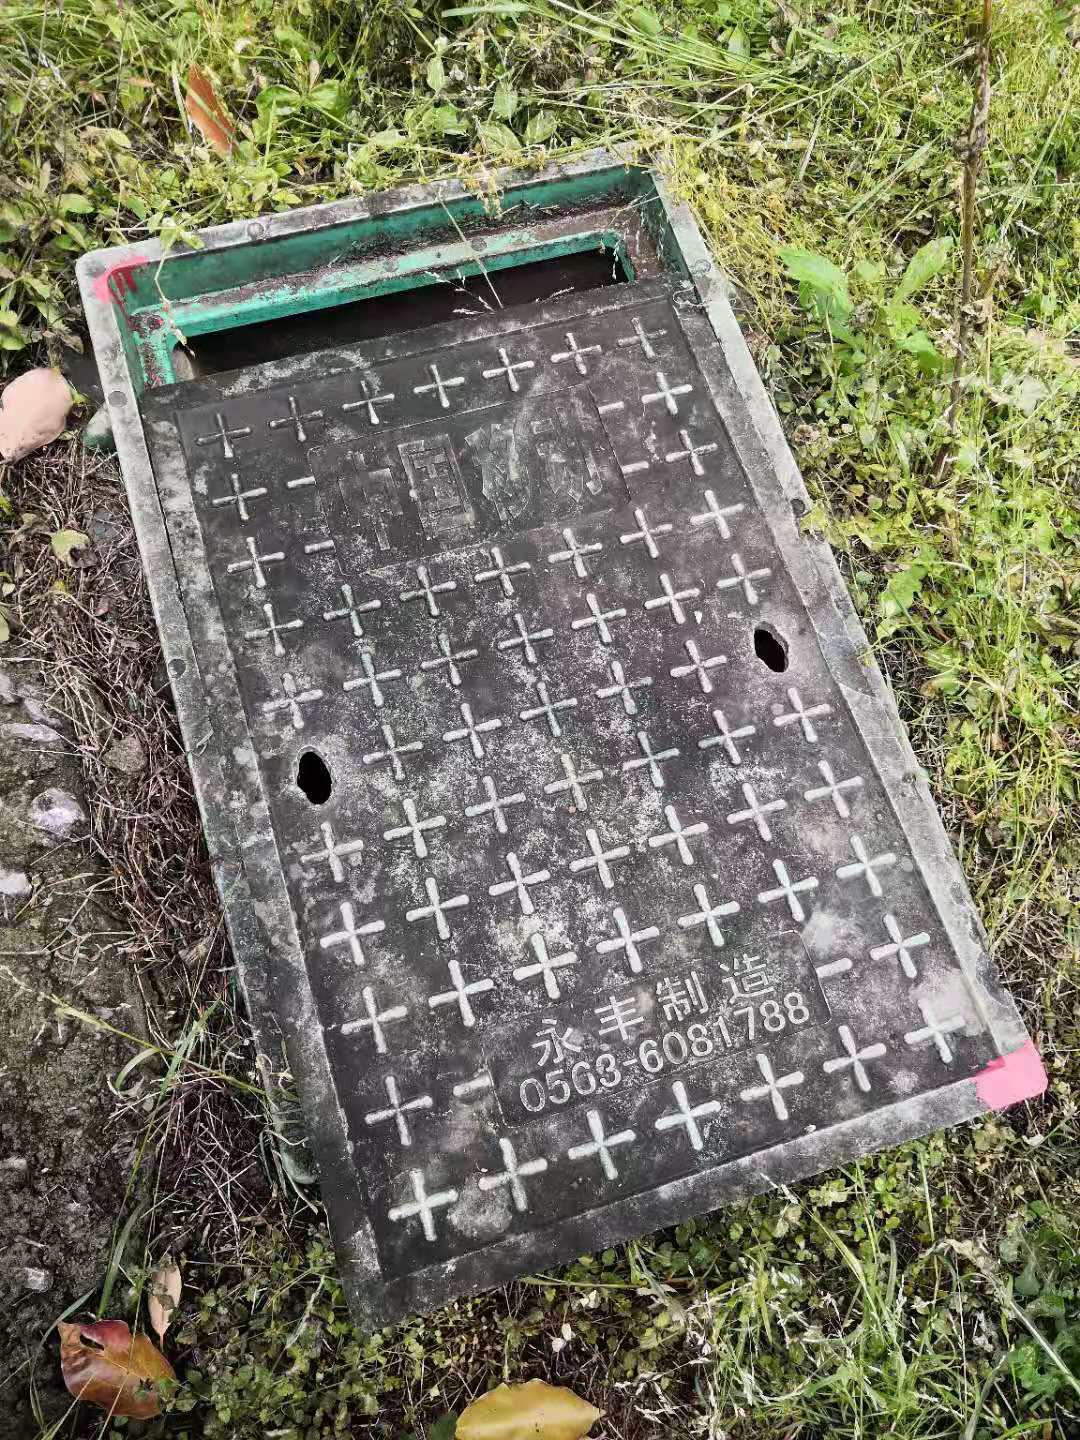uncovered: (75, 132, 1043, 1323)
